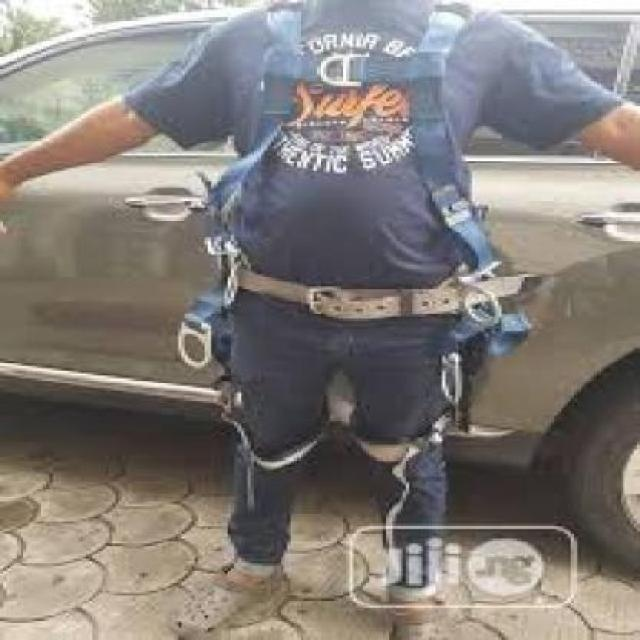Arnes_seguridad: (206, 2, 488, 462)
